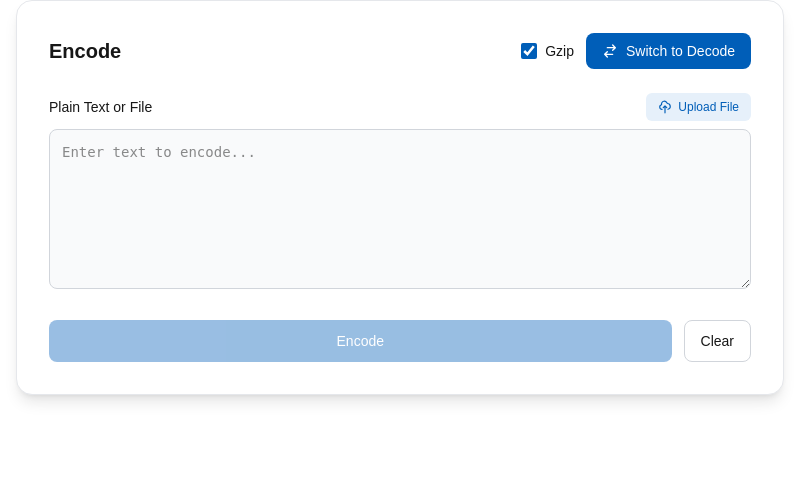
it: EncoderDecoder › shows error on failed encode
Type "bad input" into the text box with placeholder "Enter text to encode..." at [400, 209], box [49,129,751,289]
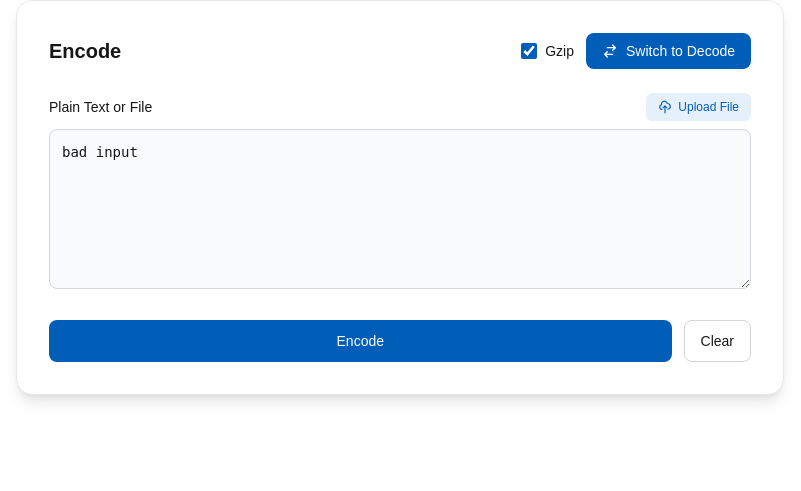
Click the button "Encode" at [360, 341], box [49,320,672,362]
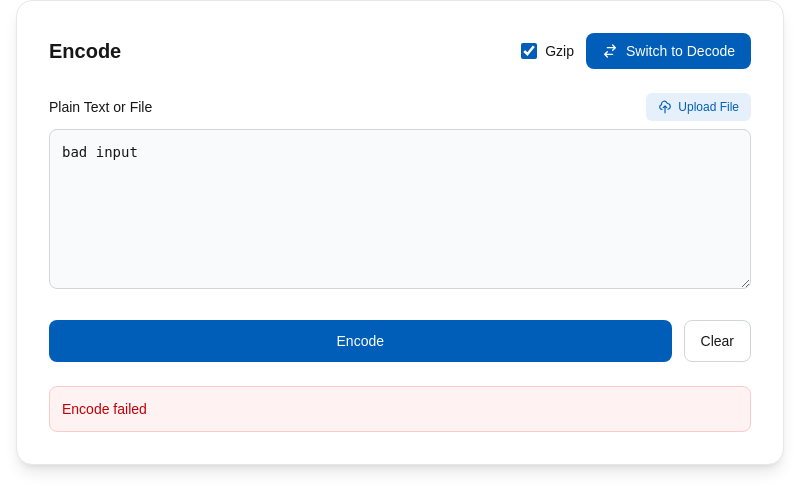
Expected: the text "Encode failed" is shown, [49,386,751,432]
